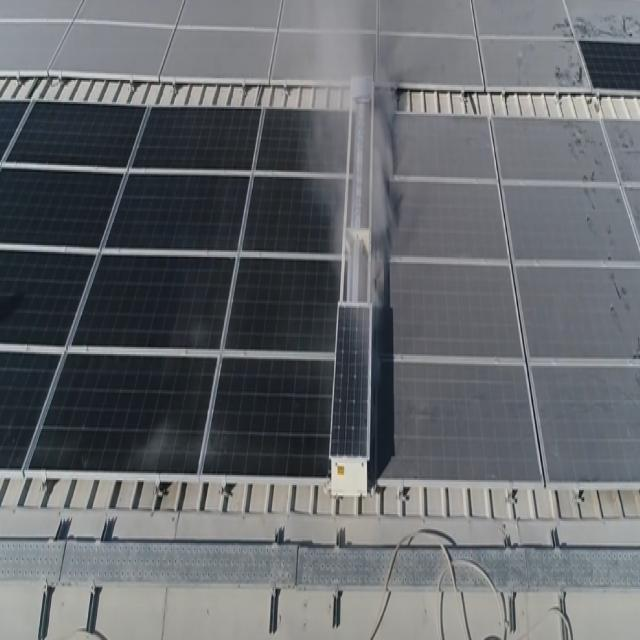clean-solar-panel: (0, 92, 332, 483)
dust-solar-panel: (377, 116, 640, 480)
